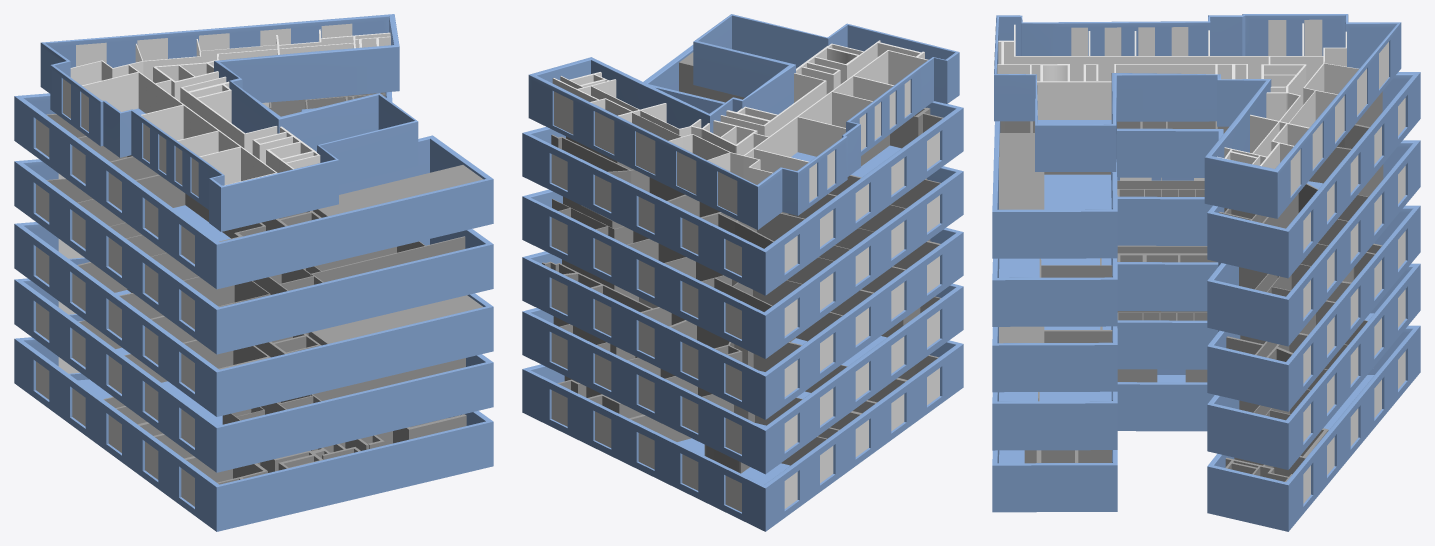
The model's file is Batiment_Etages.fbx.
The picture shows the model from 3 angles, left to right: view 1: azimuth 30°, elevation 25°; view 2: azimuth 150°, elevation 25°; view 3: azimuth 270°, elevation 25°; orthographic projection. The views are drawn at different scales.
Visible parts, largest first — view 1: Mur_Cotés_5E_etages, Mur_Coté_etages_4, Mur_Coté_RDC, Mur_Coté_etages_1, Mur_Coté_etages_3, Mur_Coté_etages_2, Murs_interieurs_E5, Murs_interieurs_E3, Murs_Interieurs_RDC, Murs_Interieurs_E4, Murs_Interieurs_E2, Murs_interieurs_E1 (+2 smaller); view 2: Mur_Cotés_5E_etages, Mur_Coté_etages_4, Mur_Coté_RDC, Mur_Coté_etages_3, Mur_Coté_etages_1, Mur_Coté_etages_2, Murs_interieurs_E5, Murs_interieurs_E3, Murs_Interieurs_E4, Murs_Interieurs_E2, Murs_Interieurs_RDC, Murs_interieurs_E1 (+1 smaller); view 3: Mur_Cotés_5E_etages, Mur_Coté_etages_4, Mur_Coté_etages_3, Mur_Coté_RDC, Mur_Coté_etages_1, Mur_Coté_etages_2, Murs_interieurs_E5, Murs_interieurs_E3, Murs_Interieurs_E2, Murs_Interieurs_E4, Murs_Interieurs_RDC, Vide_E4 (+2 smaller).
Boxes of the visible parts, left/top/right/bottom form: Mur_Cotés_5E_etages: left=40, top=14, right=418, bottom=231; Mur_Coté_etages_4: left=14, top=92, right=493, bottom=289; Mur_Coté_RDC: left=14, top=337, right=493, bottom=531; Mur_Coté_etages_1: left=14, top=278, right=493, bottom=472; Mur_Coté_etages_3: left=14, top=159, right=493, bottom=354; Mur_Coté_etages_2: left=14, top=222, right=493, bottom=416; Murs_interieurs_E5: left=70, top=29, right=390, bottom=185; Murs_interieurs_E3: left=46, top=178, right=465, bottom=306; Murs_Interieurs_RDC: left=103, top=397, right=466, bottom=484; Murs_Interieurs_E4: left=46, top=92, right=385, bottom=241; Murs_Interieurs_E2: left=77, top=262, right=321, bottom=369; Murs_interieurs_E1: left=79, top=320, right=465, bottom=424; Mur_Cotés_5E_etages: left=528, top=14, right=959, bottom=229; Mur_Coté_etages_4: left=522, top=45, right=963, bottom=295; Mur_Coté_RDC: left=522, top=340, right=963, bottom=531; Mur_Coté_etages_3: left=522, top=166, right=963, bottom=358; Mur_Coté_etages_1: left=522, top=283, right=963, bottom=474; Mur_Coté_etages_2: left=522, top=227, right=963, bottom=419; Murs_interieurs_E5: left=552, top=40, right=928, bottom=184; Murs_interieurs_E3: left=552, top=178, right=940, bottom=311; Murs_Interieurs_E4: left=551, top=107, right=943, bottom=248; Murs_Interieurs_E2: left=542, top=239, right=940, bottom=371; Murs_Interieurs_RDC: left=557, top=355, right=938, bottom=473; Murs_interieurs_E1: left=553, top=296, right=940, bottom=425; Mur_Cotés_5E_etages: left=994, top=14, right=1401, bottom=218; Mur_Coté_etages_4: left=992, top=72, right=1420, bottom=278; Mur_Coté_etages_3: left=992, top=140, right=1420, bottom=346; Mur_Coté_RDC: left=992, top=325, right=1420, bottom=531; Mur_Coté_etages_1: left=992, top=263, right=1420, bottom=469; Mur_Coté_etages_2: left=992, top=205, right=1420, bottom=411; Murs_interieurs_E5: left=997, top=23, right=1358, bottom=168; Murs_interieurs_E3: left=1039, top=164, right=1383, bottom=296; Murs_Interieurs_E2: left=1044, top=243, right=1382, bottom=361; Murs_Interieurs_E4: left=1000, top=91, right=1382, bottom=228; Murs_Interieurs_RDC: left=1024, top=369, right=1328, bottom=481; Vide_E4: left=999, top=133, right=1044, bottom=209.
Size of the model in its own units: 95.51 by 100 by 108.
